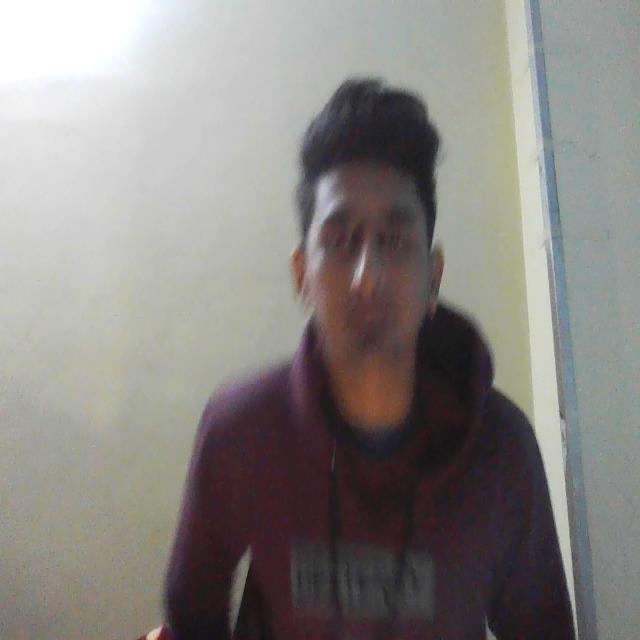real: (288, 80, 456, 397)
